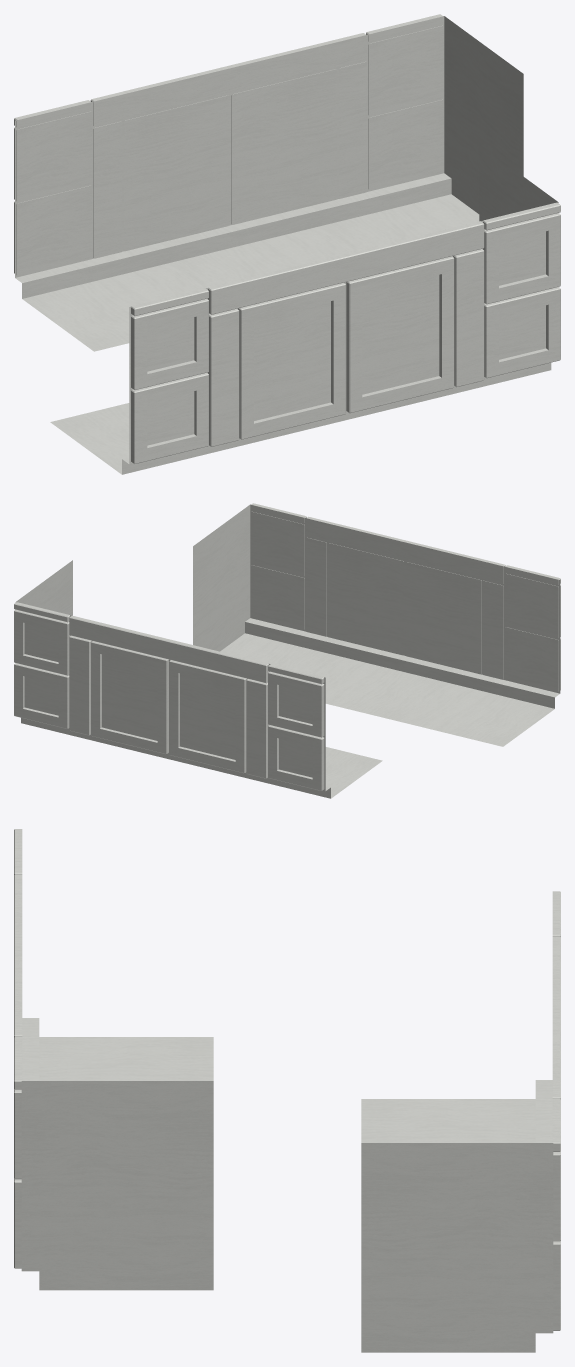
Rendered from 2345_Bathroom_Cabinets_Linen.gltf.
The picture shows the model from 3 angles, top to bottom: view 1: azimuth 30°, elevation 25°; view 2: azimuth 150°, elevation 25°; view 3: azimuth 270°, elevation 25°; orthographic projection. The views are drawn at different scales.
Parts seen in each view (by area): view 1: Line23790; view 2: Line23790; view 3: Line23790.
Boxes of the visible parts, x1,y1,x2,y2 form: Line23790: (14,14,560,474); Line23790: (14,503,560,798); Line23790: (14,829,560,1352).
Size of the model in its own units: 3.56 by 1.1 by 2.6.
1 material, 1 textured.
